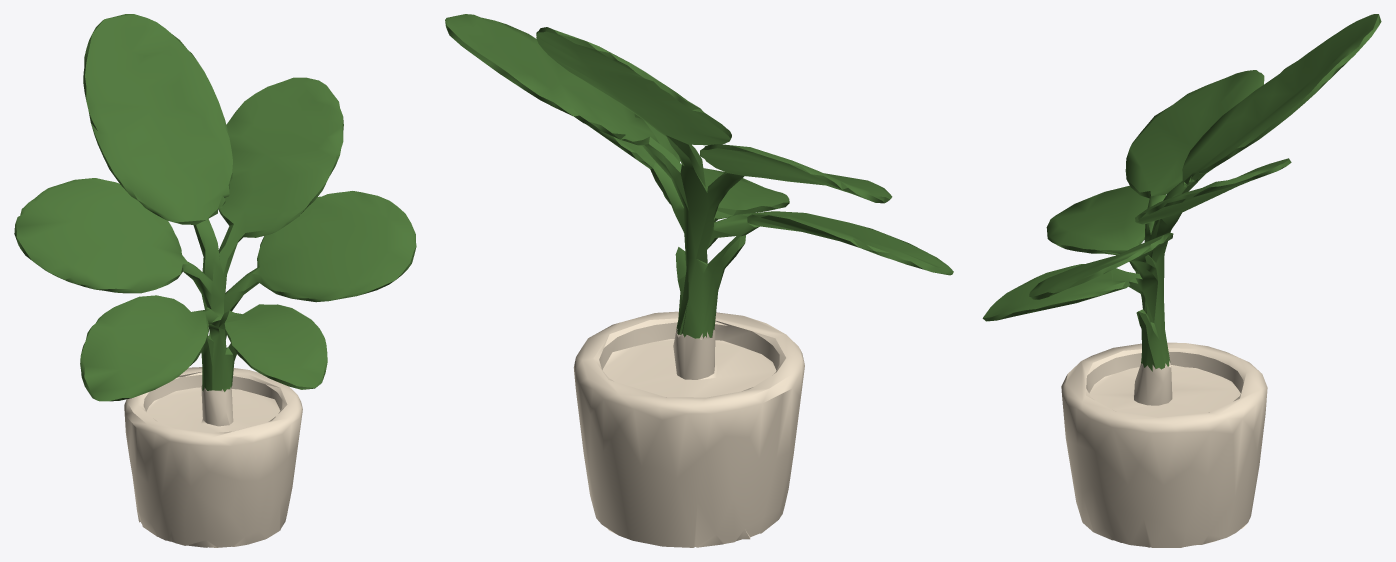
File: plant.glb
3 renders of one model, left to right at view 1: azimuth 30°, elevation 25°; view 2: azimuth 150°, elevation 25°; view 3: azimuth 270°, elevation 25°, orthographic. The views are drawn at different scales.
Parts seen in each view (by area): view 1: plant_leaf, plant_pot; view 2: plant_pot, plant_leaf; view 3: plant_pot, plant_leaf.
Boxes of the visible parts, x1,y1,x2,y2 form: plant_leaf: (14,14,416,401); plant_pot: (124,367,302,547); plant_pot: (573,311,804,547); plant_leaf: (445,14,953,338); plant_pot: (1061,342,1267,547); plant_leaf: (982,14,1381,371).
Bounding box in the file's own units: 1.2 × 1.5 × 1.1.
